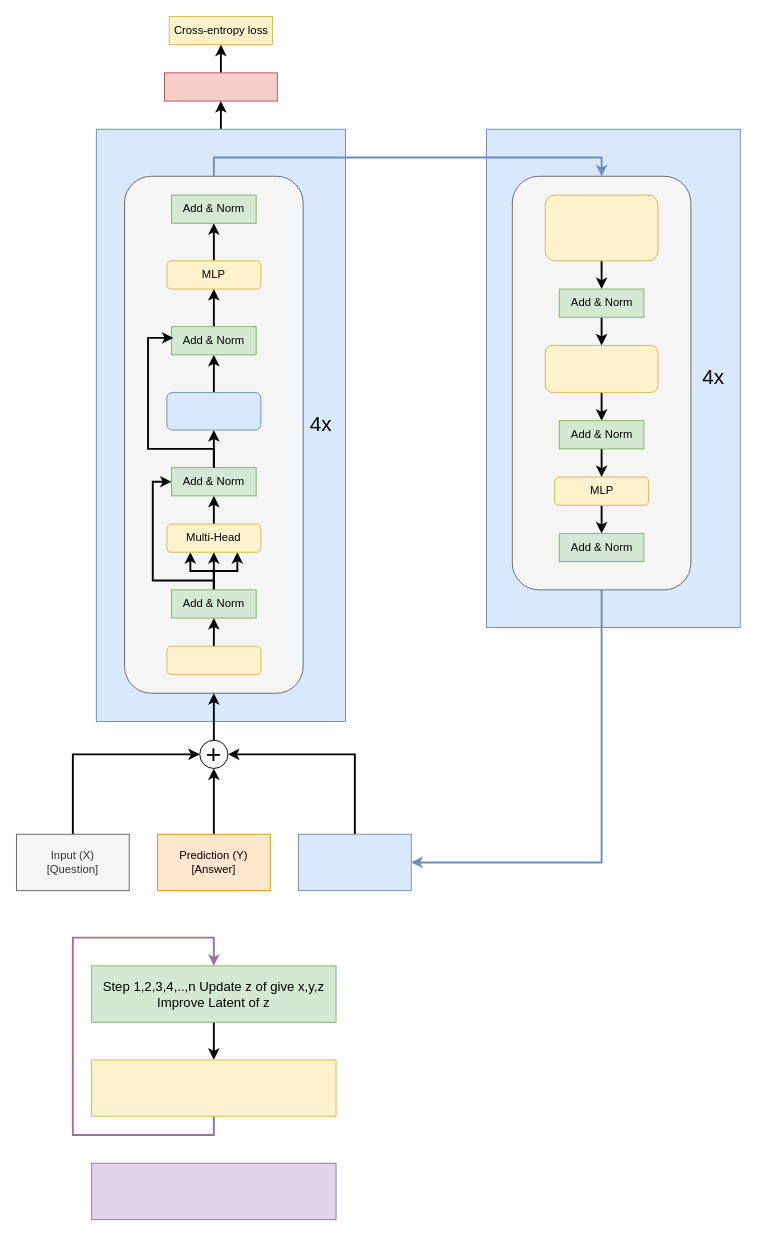
The diagram is 757 pixels wide and 1236 high, and some of its shapes have lost their labels. Here are the shapes that lost their labels. From the top down, the centre of each, then its label:
At point 220,86: "Reverse Embedding".
At point 601,227: "Masked MultiHead Self-Attention".
At point 601,368: "MultiHead Self-Attention".
At point 213,411: "Feed Forward".
At point 213,659: "Self-Attention".
At point 354,862: "Latent (Z) [Reasoning]".
At point 213,1087: "Step n+1 Update y of give y,z Improve predection of y".
At point 213,1191: "Applied N = 24 times Trying to improve the predection of y".
